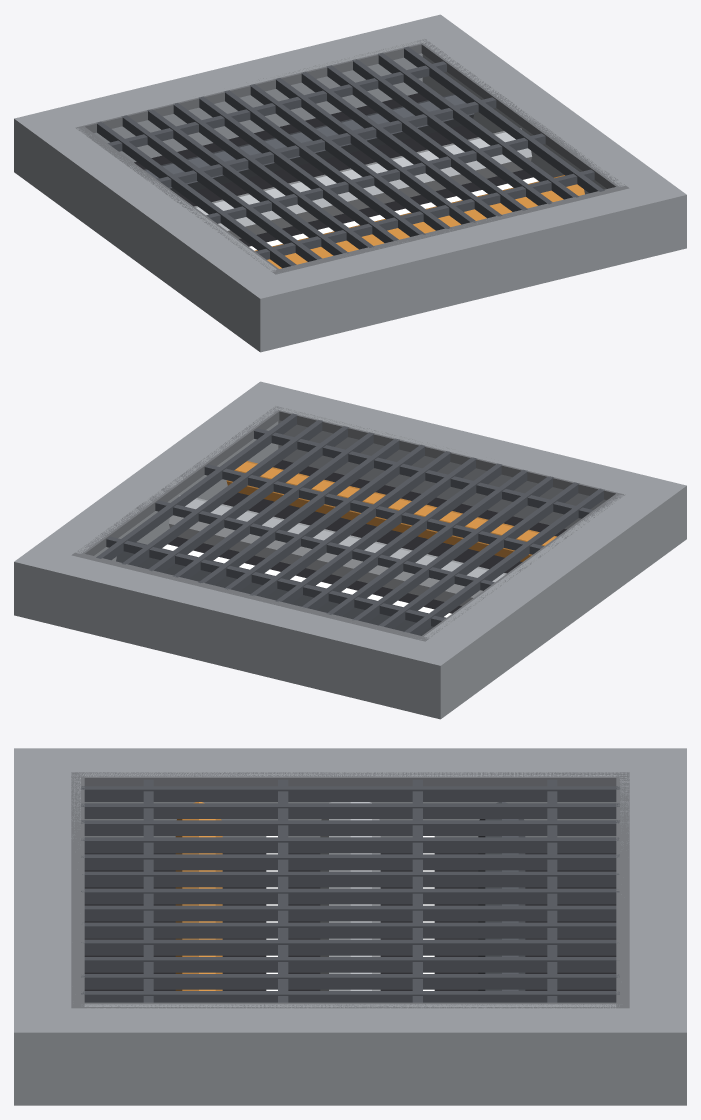
Rendered from SM_Floor_Grate_Lit.fbx.
3 views of the same model, one above another, from view 1: azimuth 30°, elevation 25°; view 2: azimuth 150°, elevation 25°; view 3: azimuth 270°, elevation 25° (orthographic). The views are drawn at different scales.
Parts seen in each view (by area): view 1: SM_Floor_Grate_Lit; view 2: SM_Floor_Grate_Lit; view 3: SM_Floor_Grate_Lit.
Boxes of the visible parts, <box> form: SM_Floor_Grate_Lit: <box>14,14,686,352</box>; SM_Floor_Grate_Lit: <box>14,381,686,719</box>; SM_Floor_Grate_Lit: <box>14,748,686,1105</box>.
Bounding box in the file's own units: 2 × 0.24 × 2.
